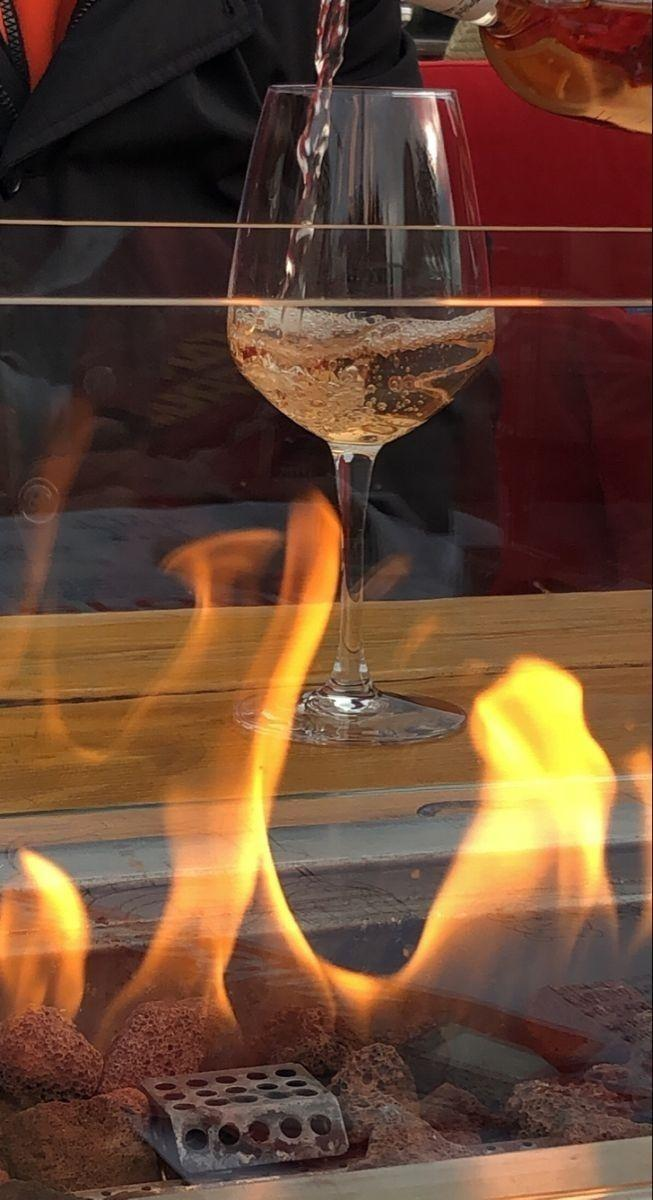glass-wine: (224, 79, 497, 749)
